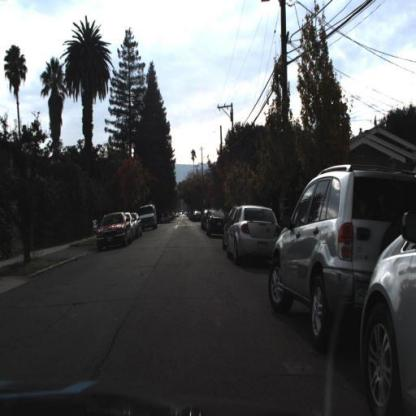car: (260, 159, 415, 341), (267, 163, 415, 350), (360, 198, 415, 416), (224, 199, 286, 267), (226, 204, 286, 264), (94, 211, 132, 251), (138, 202, 159, 234), (222, 206, 235, 250), (206, 209, 225, 238), (139, 202, 156, 229), (123, 211, 134, 238), (131, 210, 141, 238)
